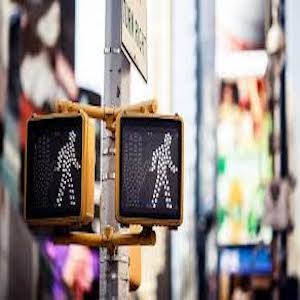green: (46, 129, 83, 208), (141, 134, 177, 211)
